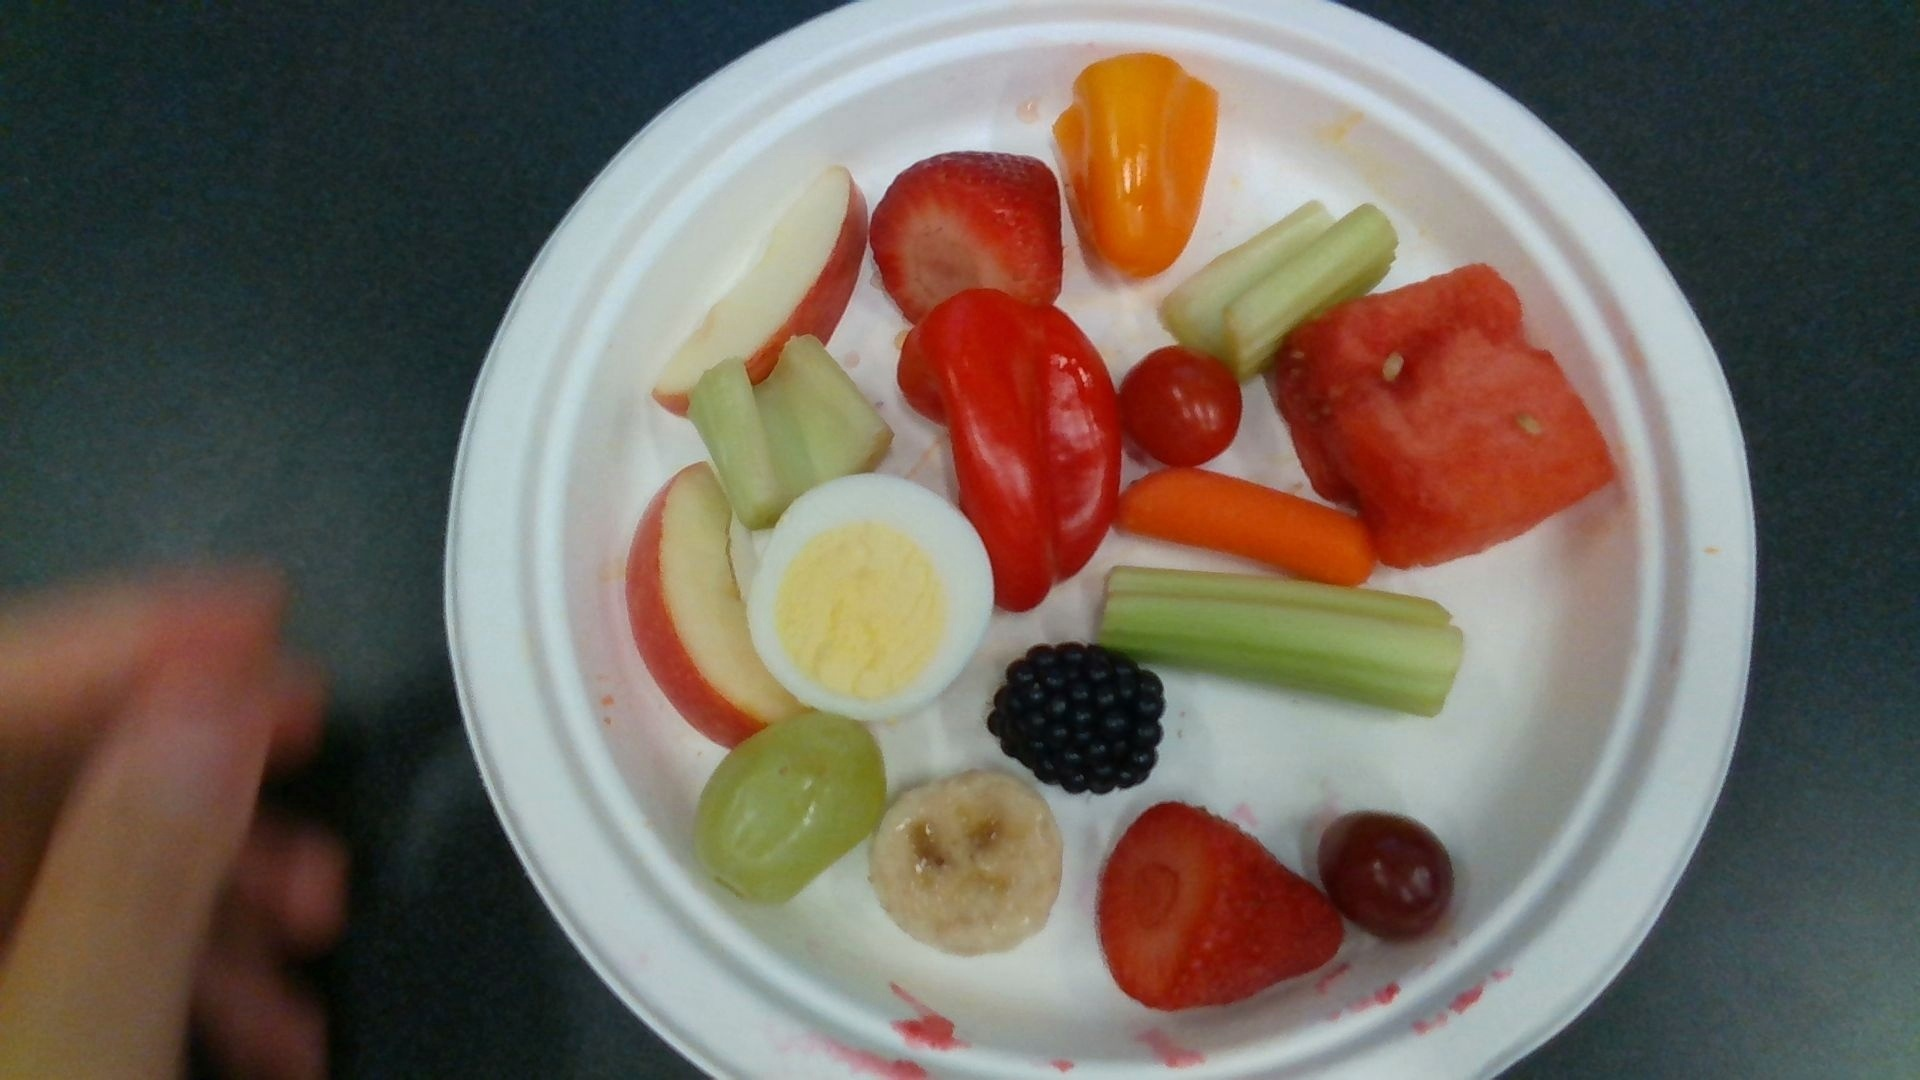apple: (626, 465, 807, 752), (650, 166, 864, 406)
banana: (872, 770, 1060, 953)
bell_pepper: (897, 287, 1120, 611), (1052, 55, 1215, 276)
blackberry: (990, 646, 1164, 789)
carrot: (1122, 463, 1370, 585)
celery: (1097, 560, 1465, 717), (684, 336, 890, 526), (1159, 208, 1399, 371)
cherry_tomato: (1117, 349, 1244, 460)
egg: (749, 475, 992, 716)
grape_green: (698, 713, 882, 901)
grape_purple: (1320, 815, 1455, 940)
melon: (1265, 266, 1611, 566)
strawberry: (1098, 800, 1340, 1013), (872, 153, 1064, 320)
